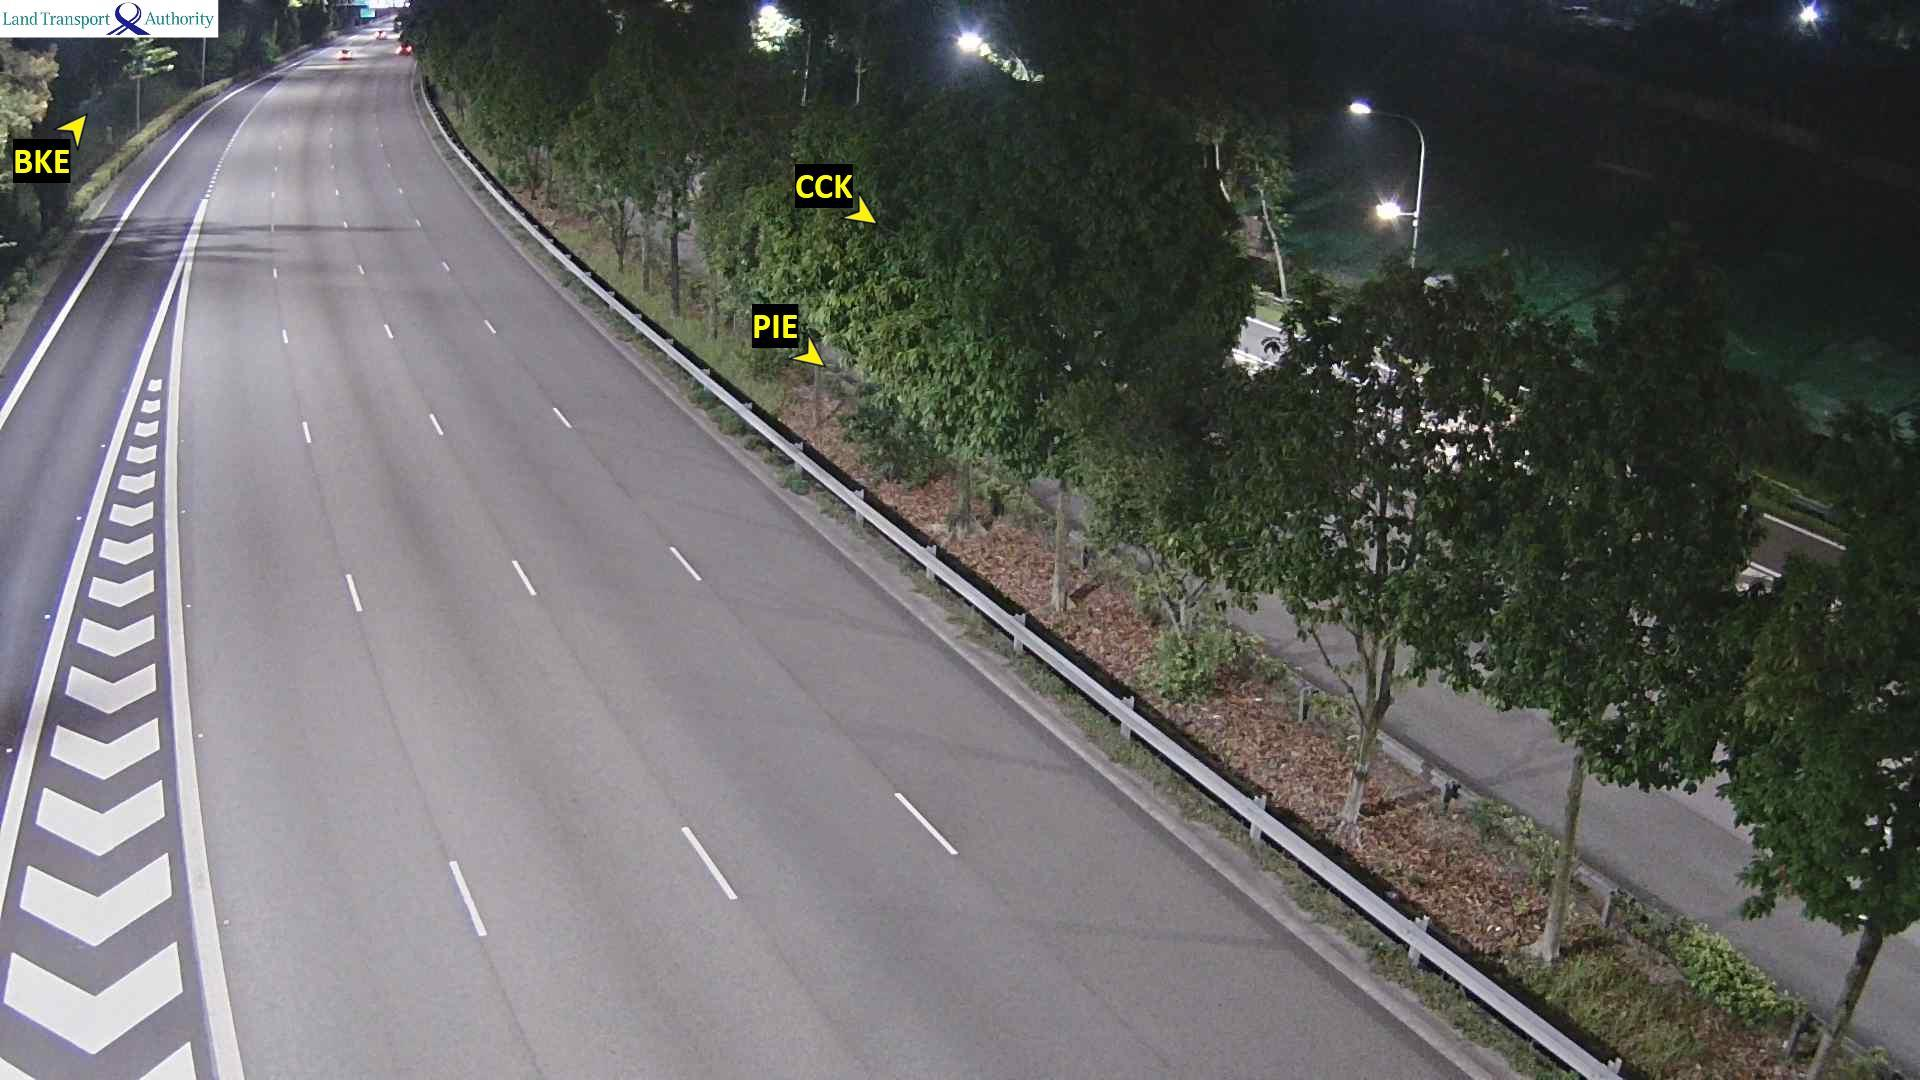cars: (392, 11, 407, 33), (373, 28, 396, 41), (396, 40, 411, 55), (336, 47, 353, 61)
